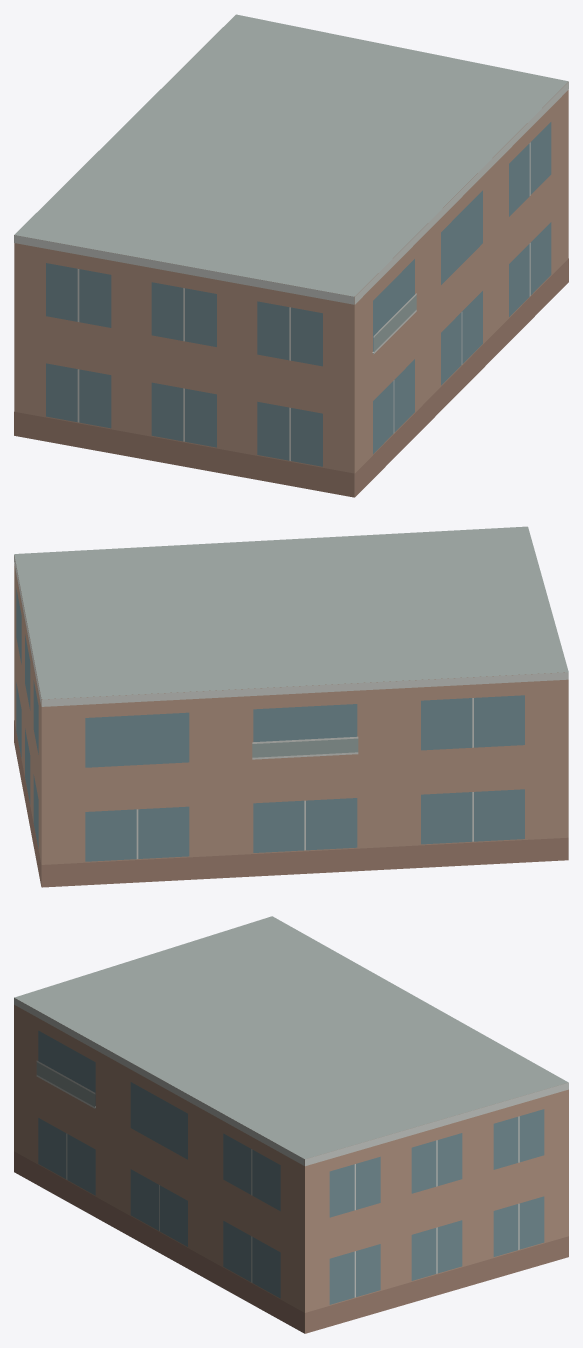
File: survey-upis-32911699.glb
3 renders of one model, top to bottom at view 1: azimuth 30°, elevation 25°; view 2: azimuth 150°, elevation 25°; view 3: azimuth 270°, elevation 25°, orthographic. The views are drawn at different scales.
Parts seen in each view (by area): view 1: survey-upis-32911699.tmp; view 2: survey-upis-32911699.tmp; view 3: survey-upis-32911699.tmp.
Boxes of the visible parts, x1,y1,x2,y2 form: survey-upis-32911699.tmp: (14, 14, 568, 497); survey-upis-32911699.tmp: (14, 526, 568, 887); survey-upis-32911699.tmp: (14, 916, 568, 1333).
Size of the model in its own units: 18.25 by 6.1 by 17.59.
